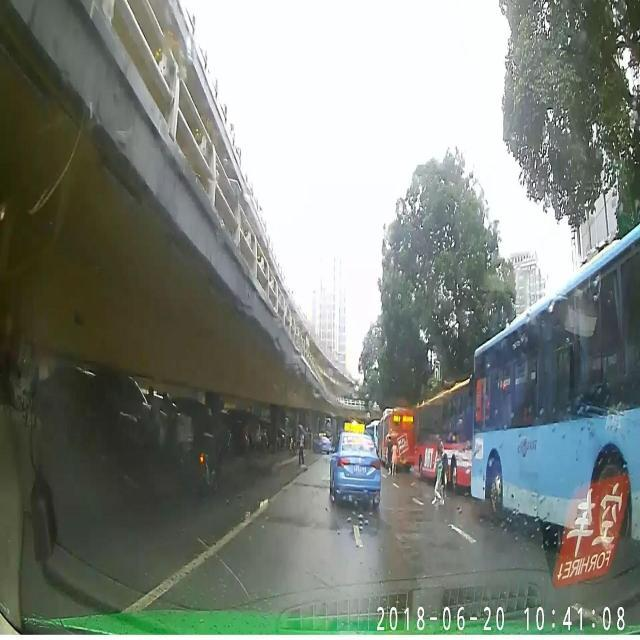car: (328, 418, 382, 510), (310, 432, 332, 454)
